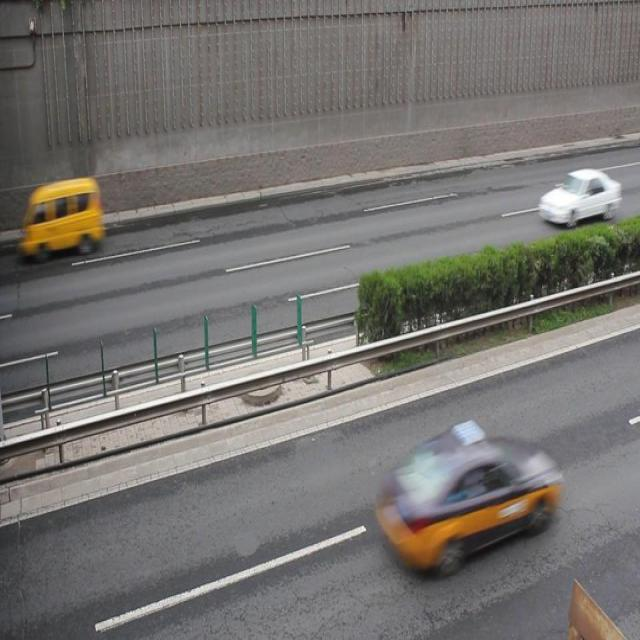car: (375, 418, 560, 575), (538, 167, 622, 229)
truck: (23, 176, 103, 260)
